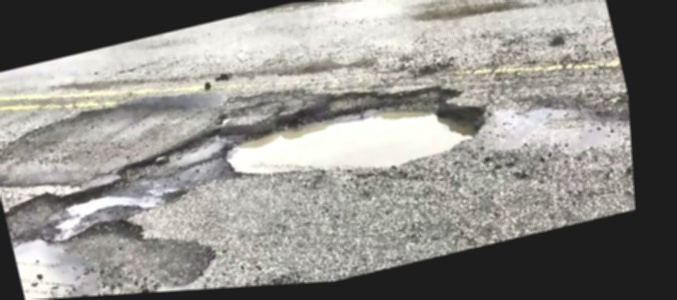pothole: (206, 57, 497, 207), (0, 170, 137, 255)
